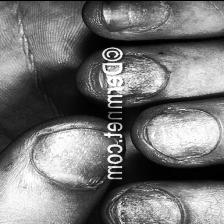Toxin: (40, 127, 96, 184), (146, 112, 200, 156), (120, 192, 183, 224), (130, 54, 162, 100)
